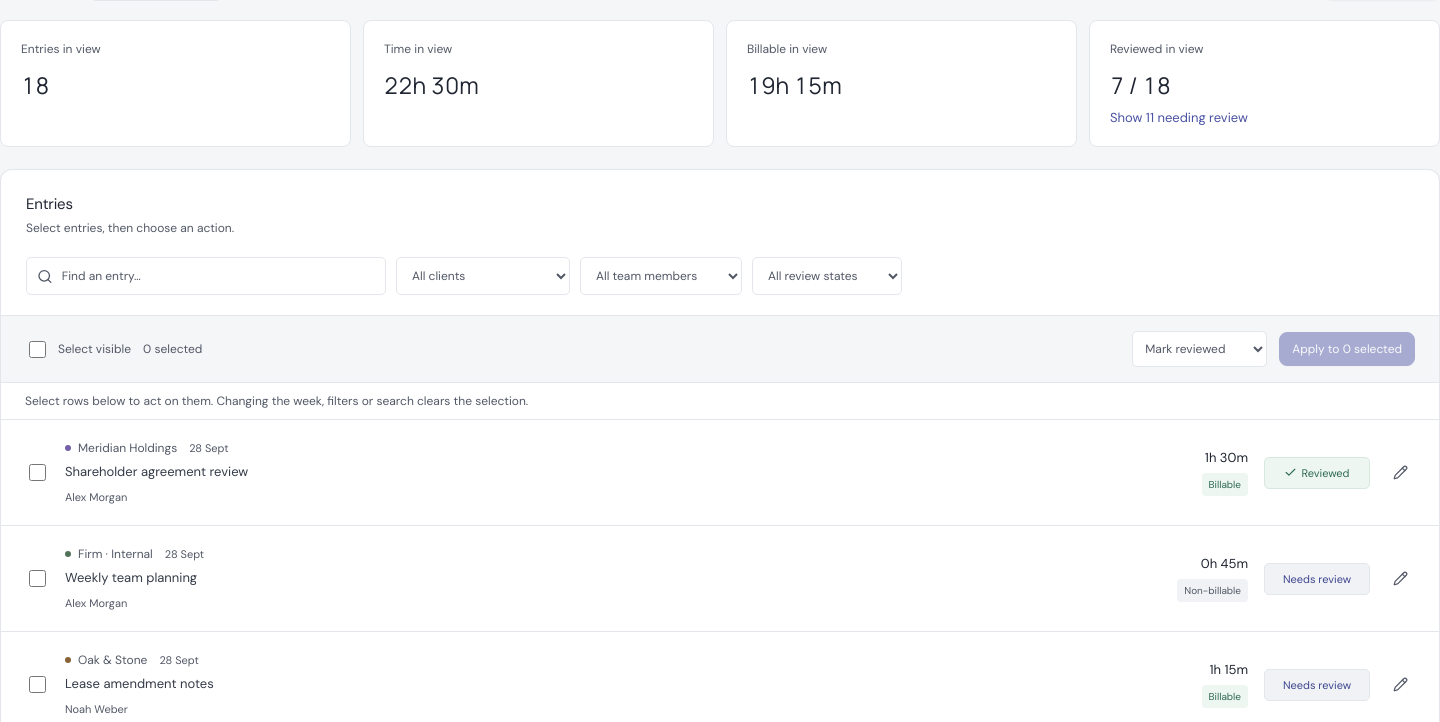
Test case: Weekly review › explains the scope of the next action
Select "Meridian Holdings" in the dropdown named "Review client" at (483, 276), box [396,257,570,295]
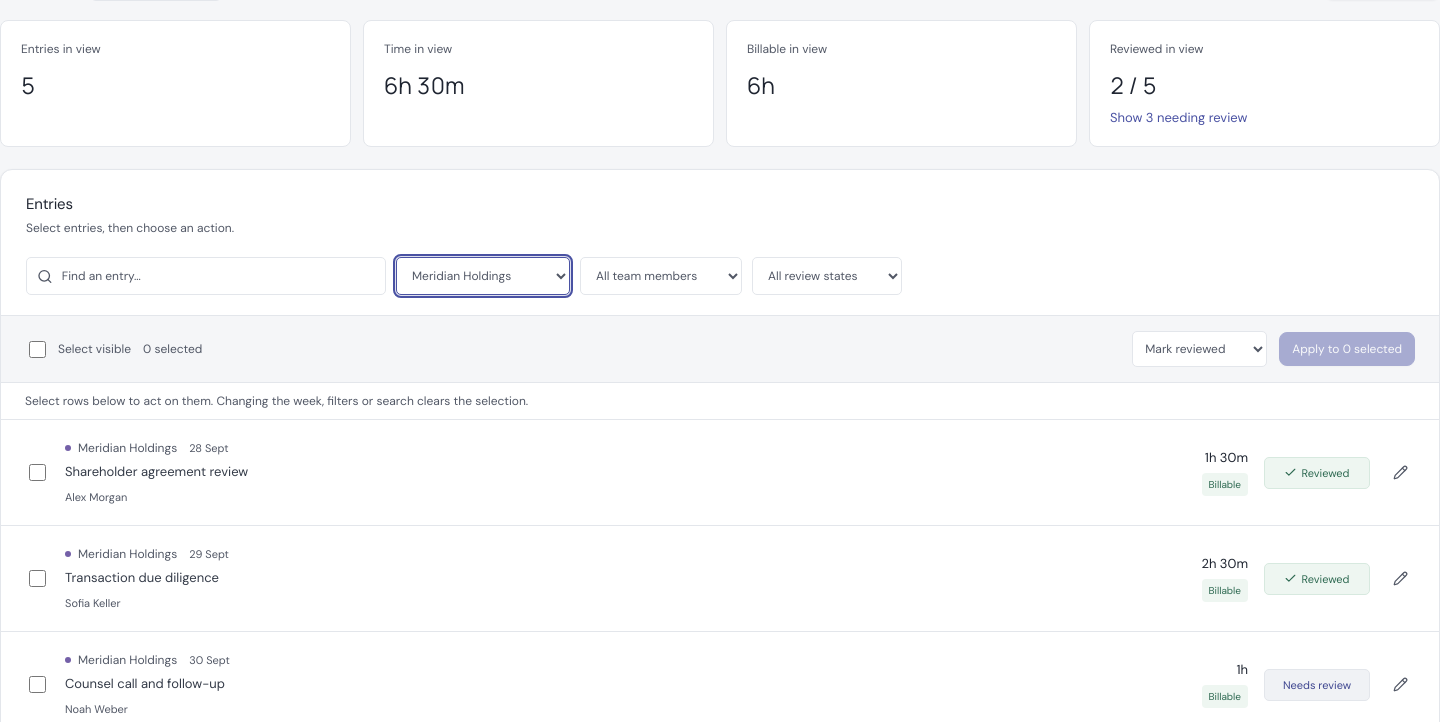
Click the checkbox named "Select Shareholder agreement review" at (38, 472), box [29,464,46,480]
(page scrolled)
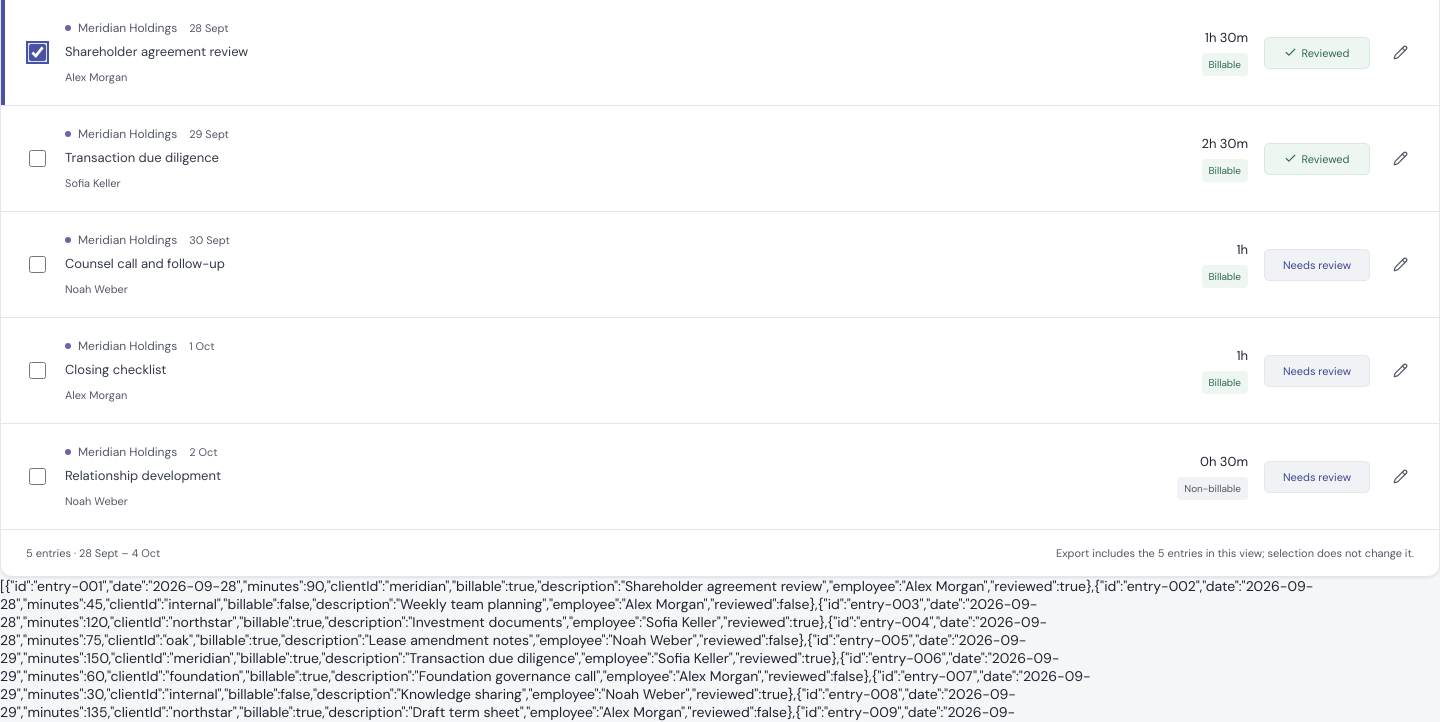
Click the checkbox named "Select Closing checklist" at (38, 370), box [29,362,46,378]
(page scrolled)
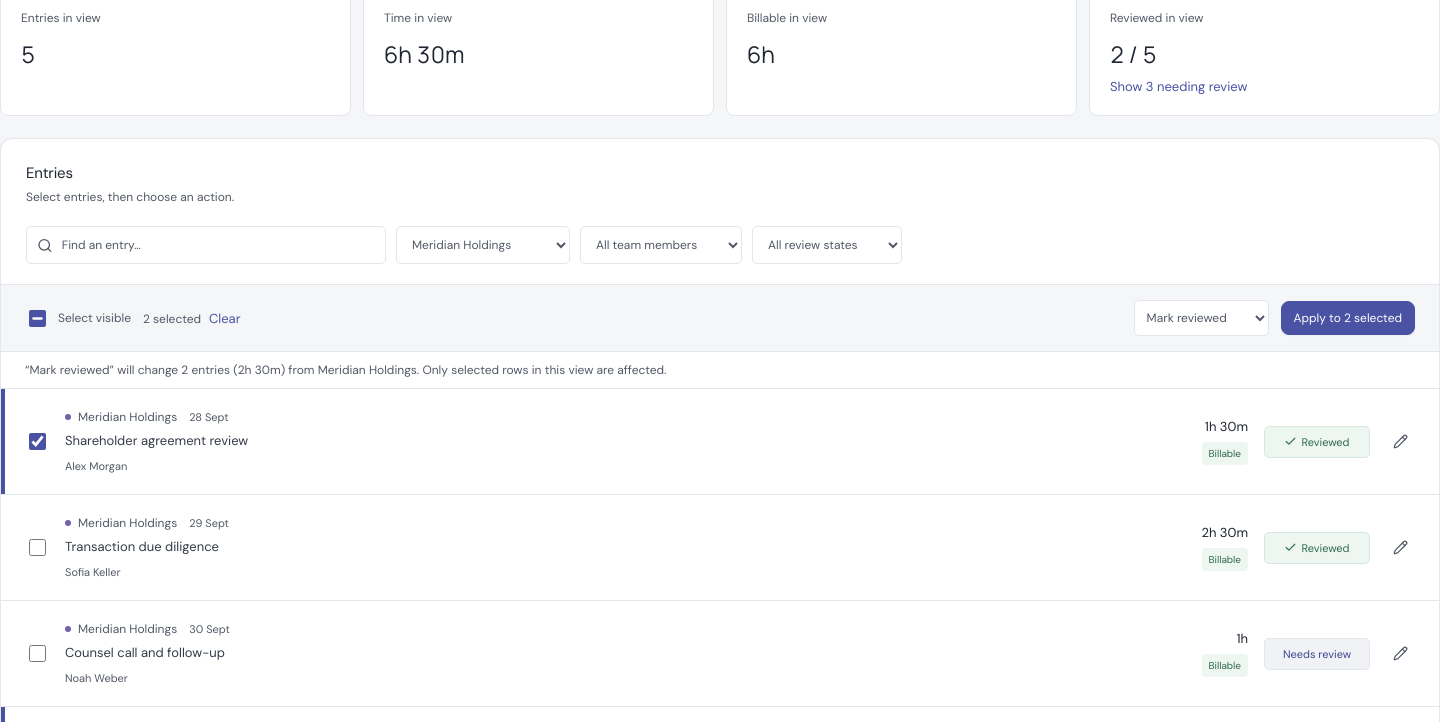
Check: the text with test id "action-scope" shows "“Mark reviewed” will change 2 entries (2h 30m) from Meridian Holdings.", box [25,362,666,378]
